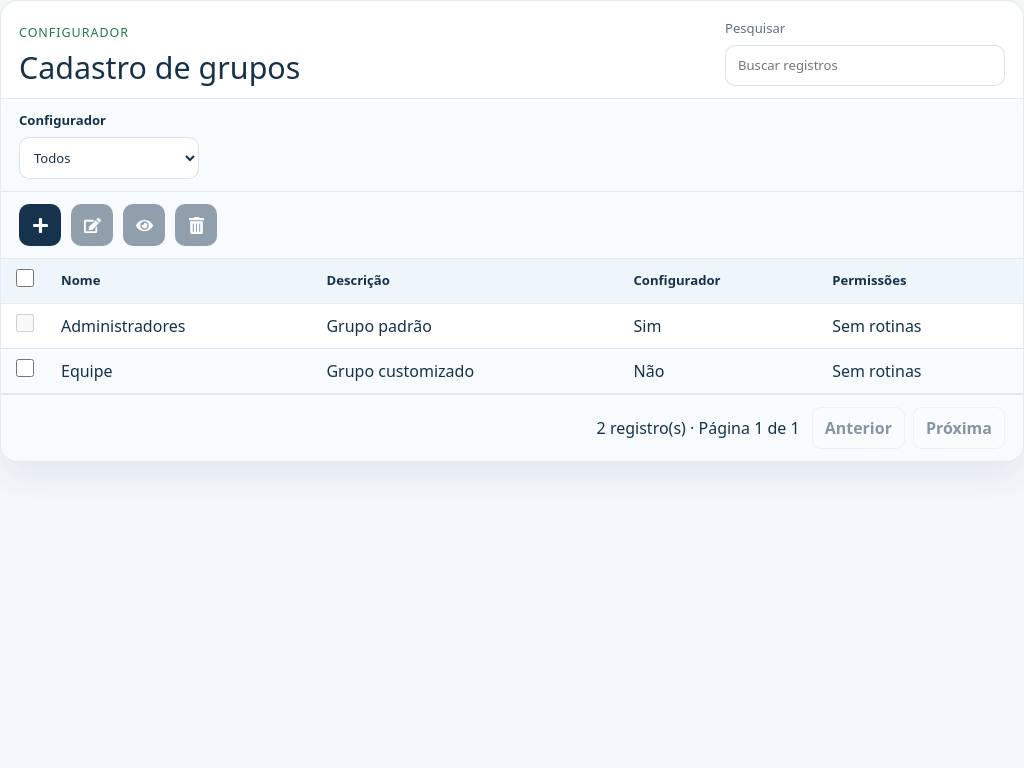
it: CRUDs do Configurador › mantém grupos realmente somente leitura ao visualizar
This screenshot has width=1024, height=768.
Click the cell "Equipe" at (182, 371), box left=49, top=348, right=314, bottom=393
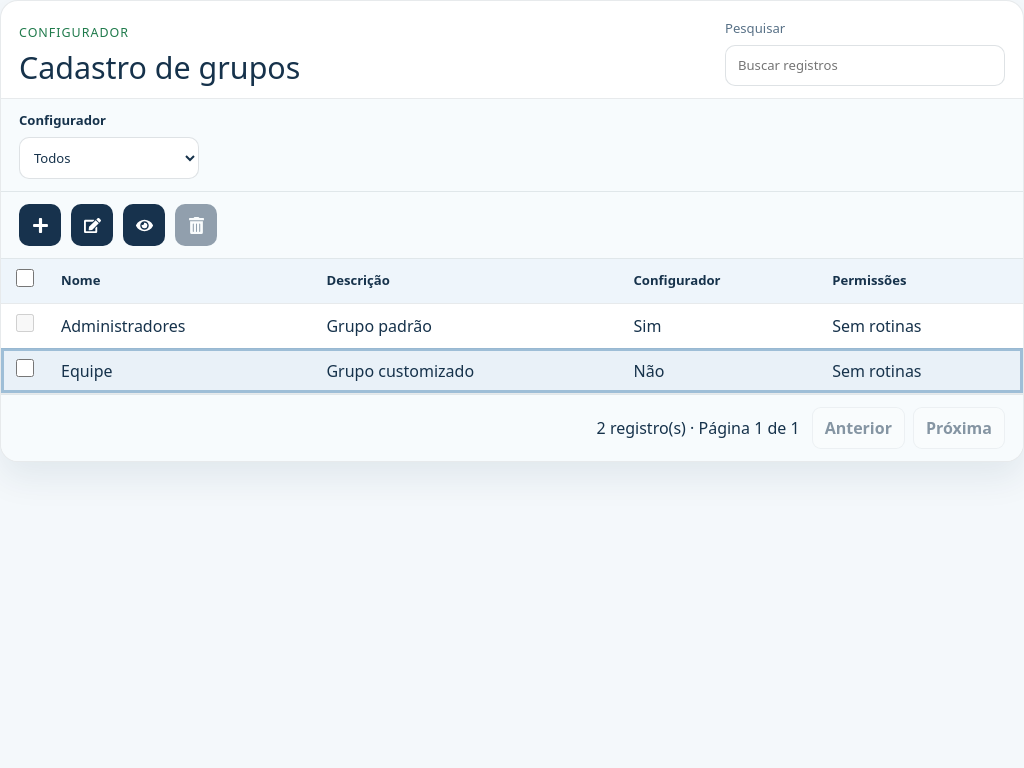
Click the button named "Visualizar" at (144, 225), box left=123, top=204, right=165, bottom=246
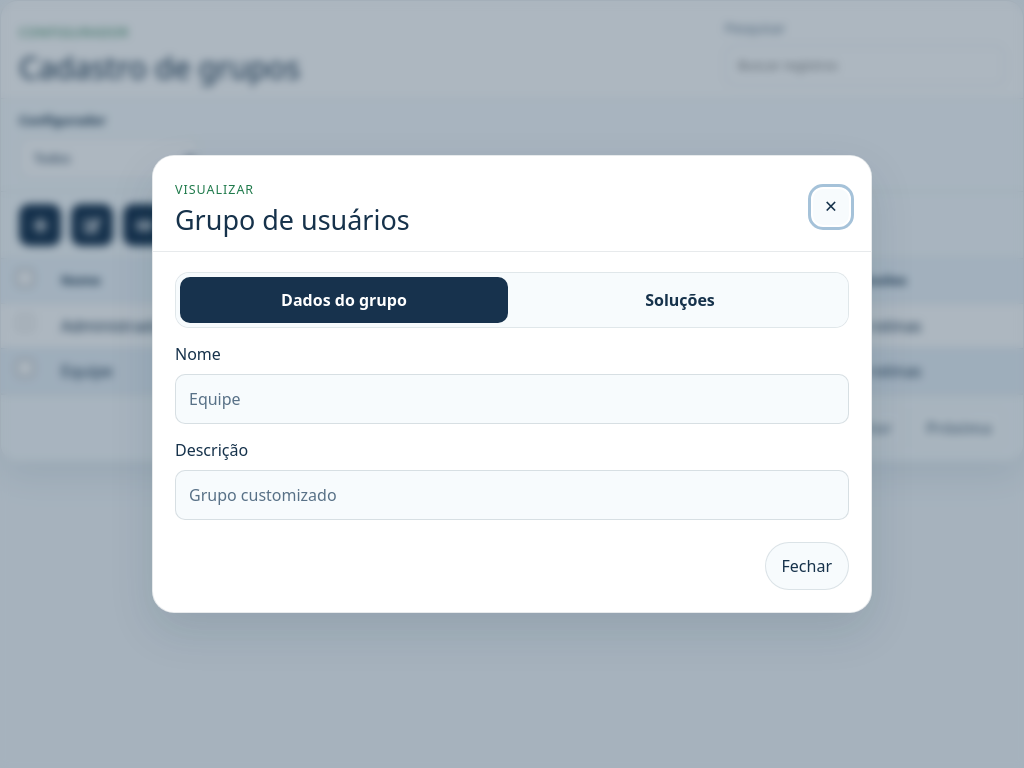
Check: the field labelled "Nome" is disabled, box left=175, top=374, right=849, bottom=424
